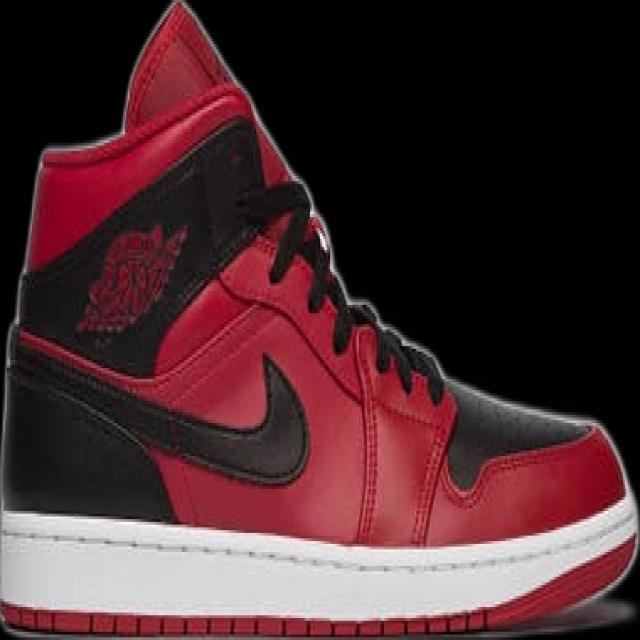J1_InsoleChar: (0, 1, 637, 638)
J1_ShoeLogo: (73, 218, 190, 338)
J1_StitchPattern: (15, 121, 451, 499), (1, 498, 638, 581), (7, 320, 310, 486), (265, 180, 447, 405), (345, 297, 453, 545), (7, 330, 154, 455), (262, 179, 356, 352), (4, 604, 491, 637), (351, 298, 447, 404), (350, 313, 385, 544), (302, 213, 355, 353), (406, 406, 457, 548)
